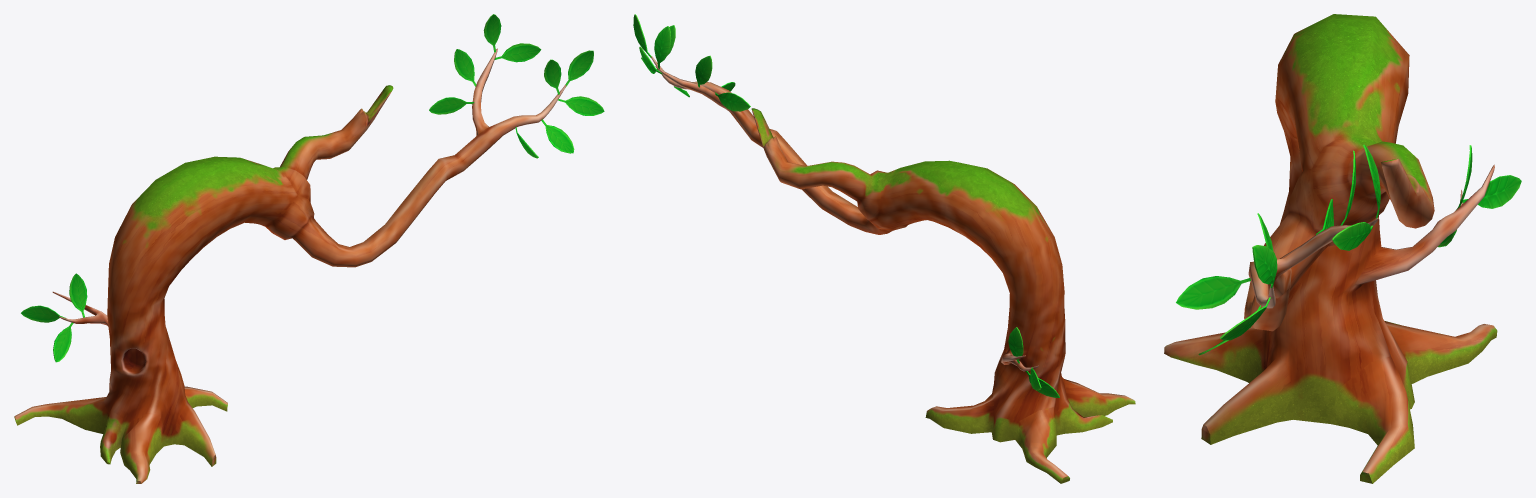
File: Tree02.FBX
3 renders of one model, left to right at view 1: azimuth 30°, elevation 25°; view 2: azimuth 150°, elevation 25°; view 3: azimuth 270°, elevation 25°, orthographic. The views are drawn at different scales.
Parts seen in each view (by area): view 1: Tree02; view 2: Tree02; view 3: Tree02.
Boxes of the visible parts, x1=… form: Tree02: x1=14, y1=14, x2=604, y2=483; Tree02: x1=633, y1=14, x2=1135, y2=483; Tree02: x1=1164, y1=14, x2=1521, y2=483.
Size of what is drawn, in the model's own units: 6.07 by 3.82 by 2.2.
